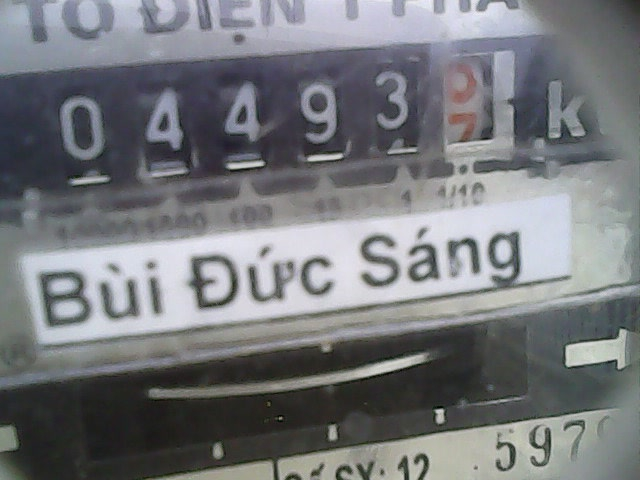phy_plate: (23, 36, 531, 181)
